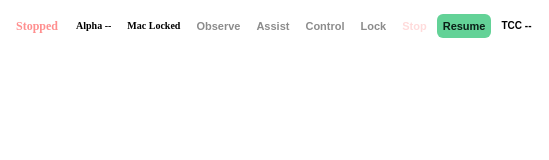
it: ControlSafetyStrip › exposes a Resume action to clear a latched Stop (the only escape from stopped)
Click the button "Resume" at (464, 26), box [437, 14, 492, 38]
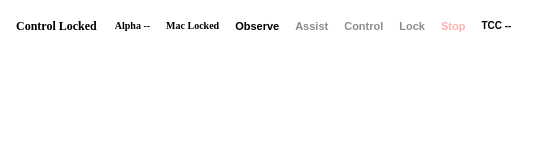
Check: the text "Control Locked" is shown, box [16, 18, 97, 32]
